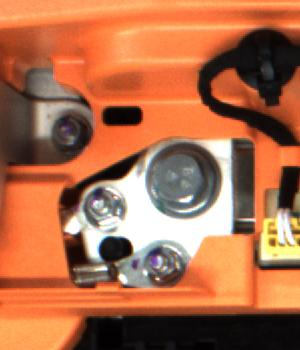nut_b: (144, 143, 219, 218)
screw_s: (145, 244, 185, 285), (85, 186, 121, 231), (48, 112, 81, 150)
